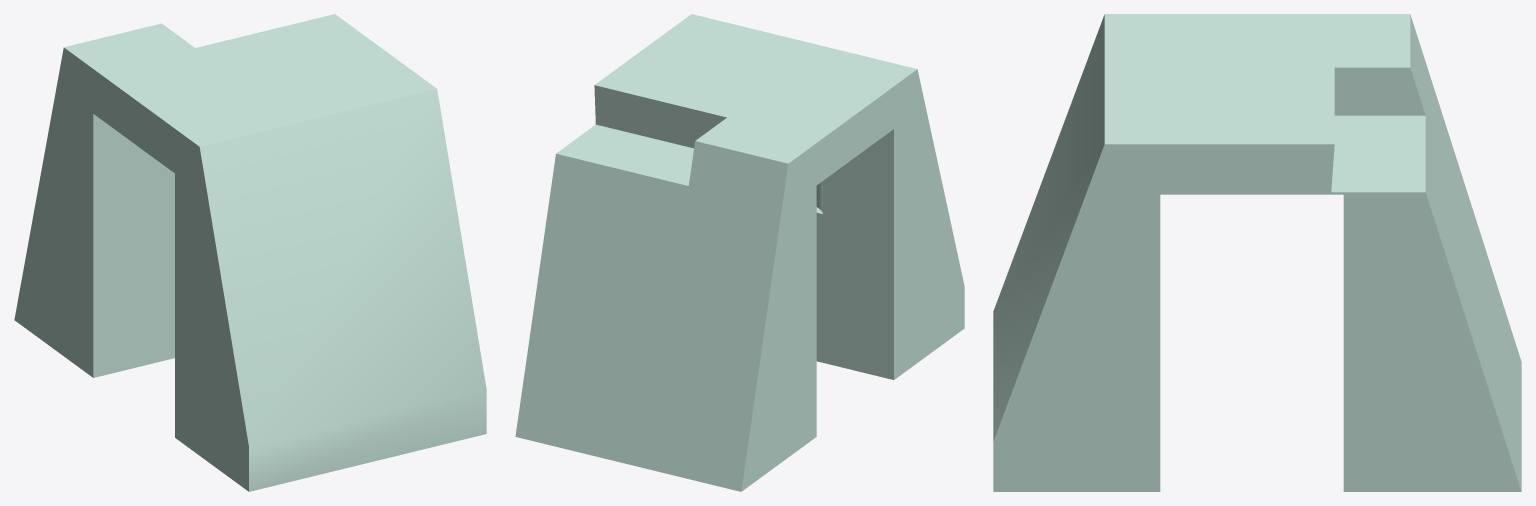
3 renders of one model, left to right at view 1: azimuth 30°, elevation 25°; view 2: azimuth 150°, elevation 25°; view 3: azimuth 270°, elevation 25°, orthographic. The views are drawn at different scales.
Visible parts, largest first — view 1: Renderer Node; view 2: Renderer Node; view 3: Renderer Node.
Boxes of the visible parts, x1,y1,x2,y2 form: Renderer Node: [14, 14, 486, 491]; Renderer Node: [515, 14, 964, 491]; Renderer Node: [993, 14, 1521, 491].
Bounding box in the file's own units: 0.7578 × 0.9419 × 1.3.
